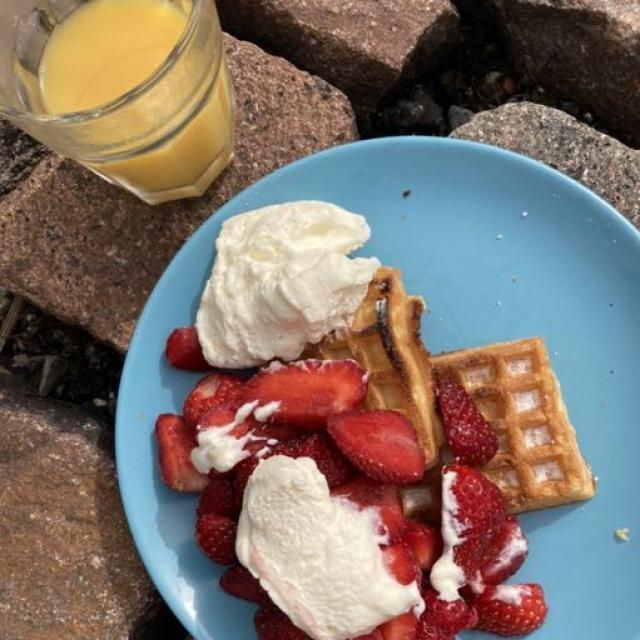cream: (180, 202, 420, 634)
juice: (27, 0, 231, 205)
strawberries: (162, 331, 553, 637)
waffle: (284, 264, 601, 517)
